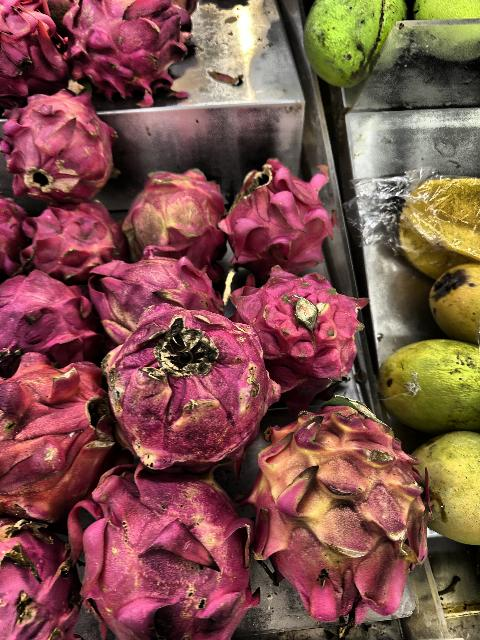buah-naga-belum-matang: (245, 395, 439, 623), (102, 308, 274, 462), (3, 364, 117, 514), (123, 169, 227, 255)
buah-naga-matang: (69, 462, 257, 640), (223, 271, 359, 394), (57, 3, 209, 103), (86, 254, 232, 348), (222, 167, 338, 279), (0, 512, 84, 640), (7, 96, 113, 190), (0, 274, 94, 364), (0, 0, 72, 94), (20, 210, 122, 272)
